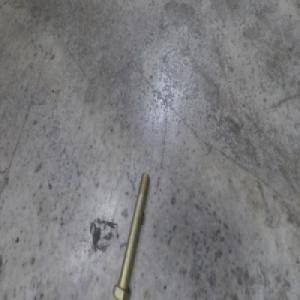Bolt: (112, 172, 148, 299)
